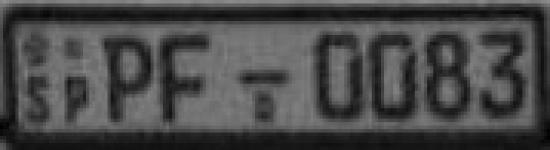-: (234, 56, 293, 94)
0: (310, 25, 368, 127), (365, 25, 422, 125)
3: (474, 24, 528, 122)
8: (422, 24, 475, 122)
F: (157, 28, 216, 127)
P: (100, 29, 157, 128), (60, 72, 92, 130)
S: (24, 70, 57, 125)
